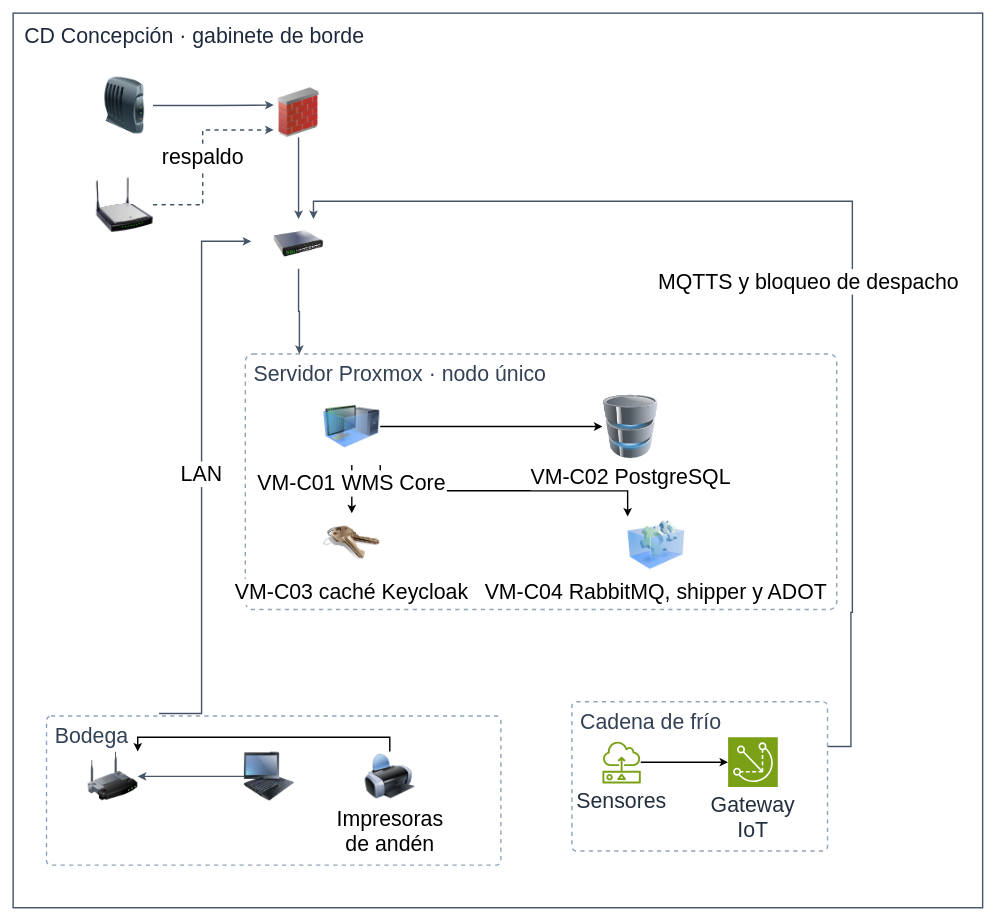
Some shapes in this 995 by 920 pixel diagram are drawn without their labels. Each missing label, with the centre of its shape:
"Fibra" belongs at pixel 124 105.
"Firewall" belongs at pixel 298 112.
"LTE" belongs at pixel 124 204.
"MC9400" belongs at pixel 269 776.
"Switch" belongs at pixel 298 243.
"Wi-Fi 6E" belongs at pixel 112 776.
